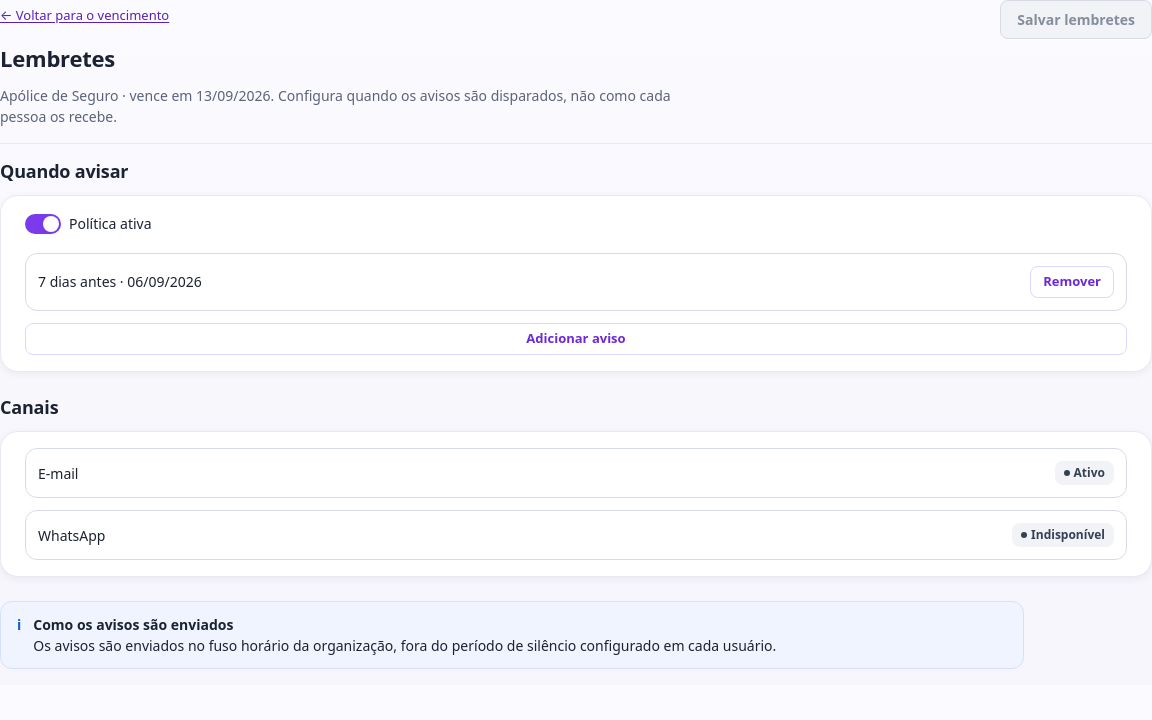
ItemReminderPolicy (A06) › a generic save failure keeps the user's edited values on screen (never discards the edit)
Check: the text "7 dias antes · 06/09/2026" is shown, box [38, 272, 202, 292]
Click the switch.
click(88, 224)  # box [25, 212, 152, 236]
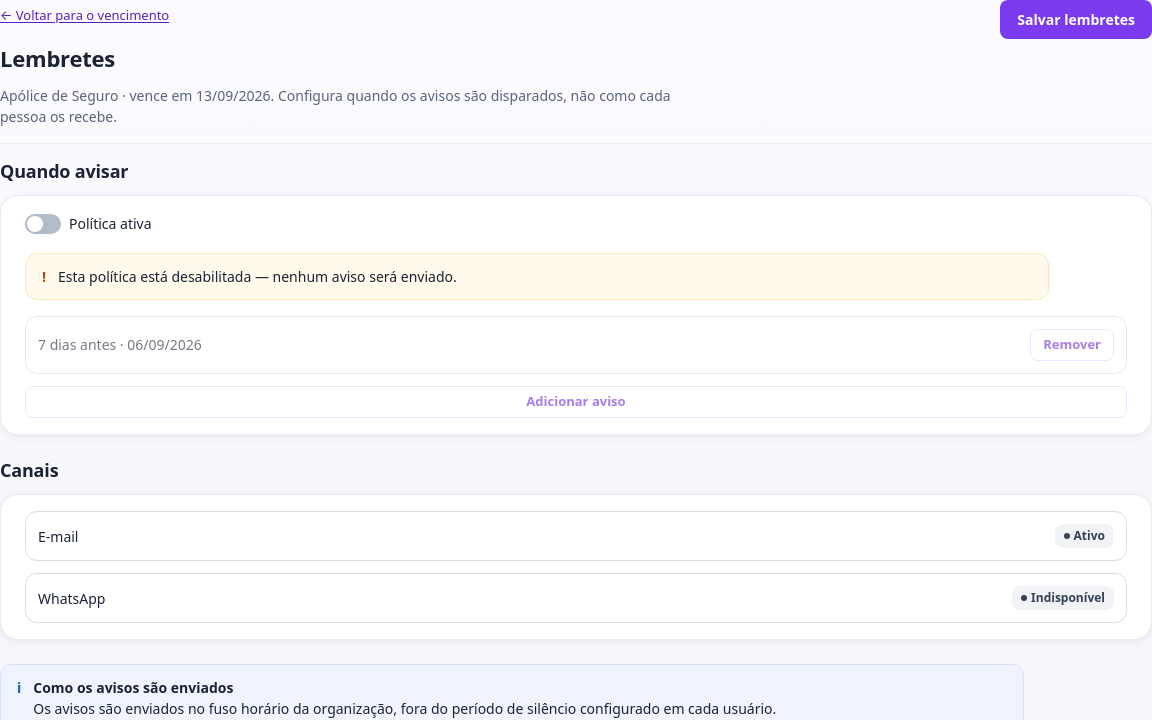
Click the button "Salvar lembretes".
click(1076, 20)  # box [1000, 0, 1151, 39]
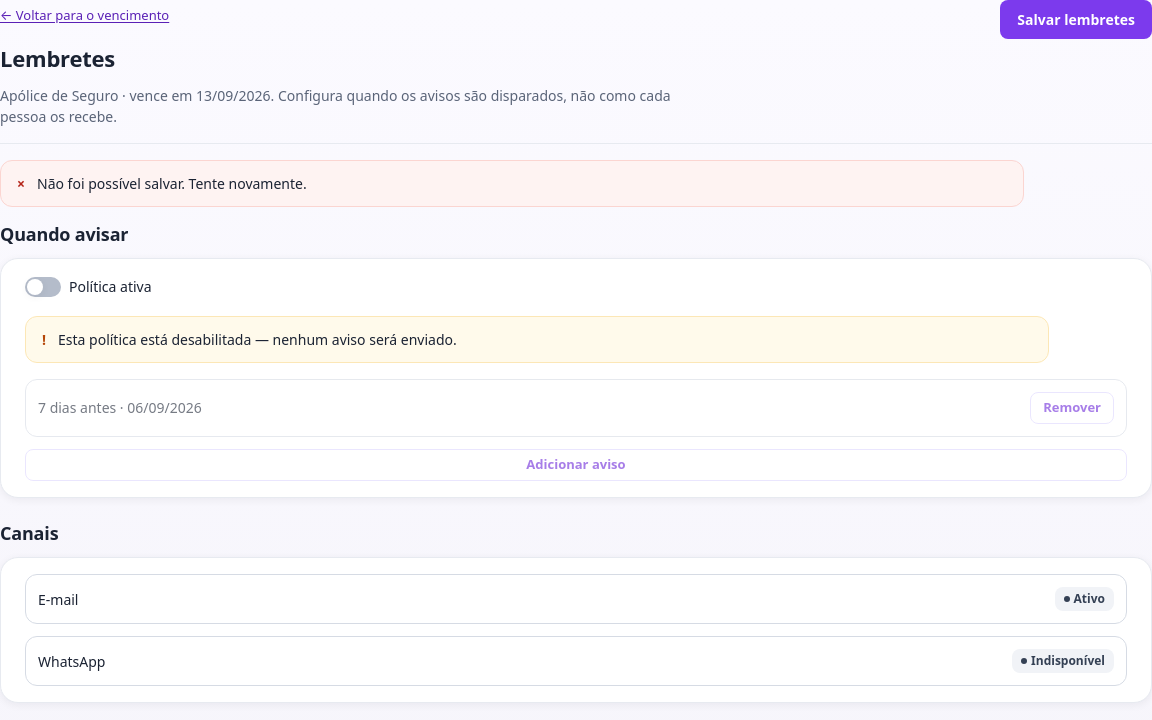
Check: the text "7 dias antes · 06/09/2026" is shown, box [38, 398, 202, 418]
Check: the text "Não foi possível salvar. Tente novamente." is shown, box [37, 173, 307, 194]
